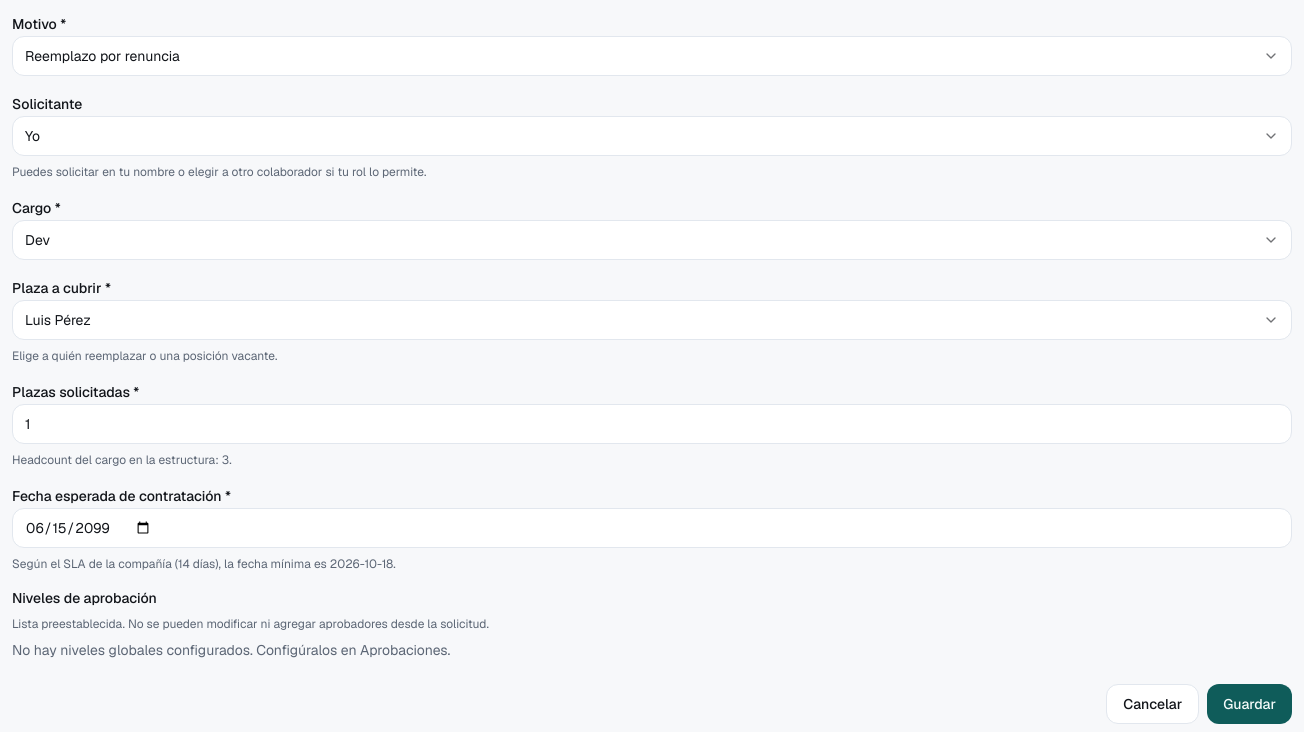
Test case: VacancyRequestForm requester field › offers Yo when the user has a linked employee
The image size is (1304, 732).
What coordinates should you click on to do the following:
click the dropdown labelled "Yo"
I would click on:
 (33, 136)
Its box is [12, 116, 1292, 156].
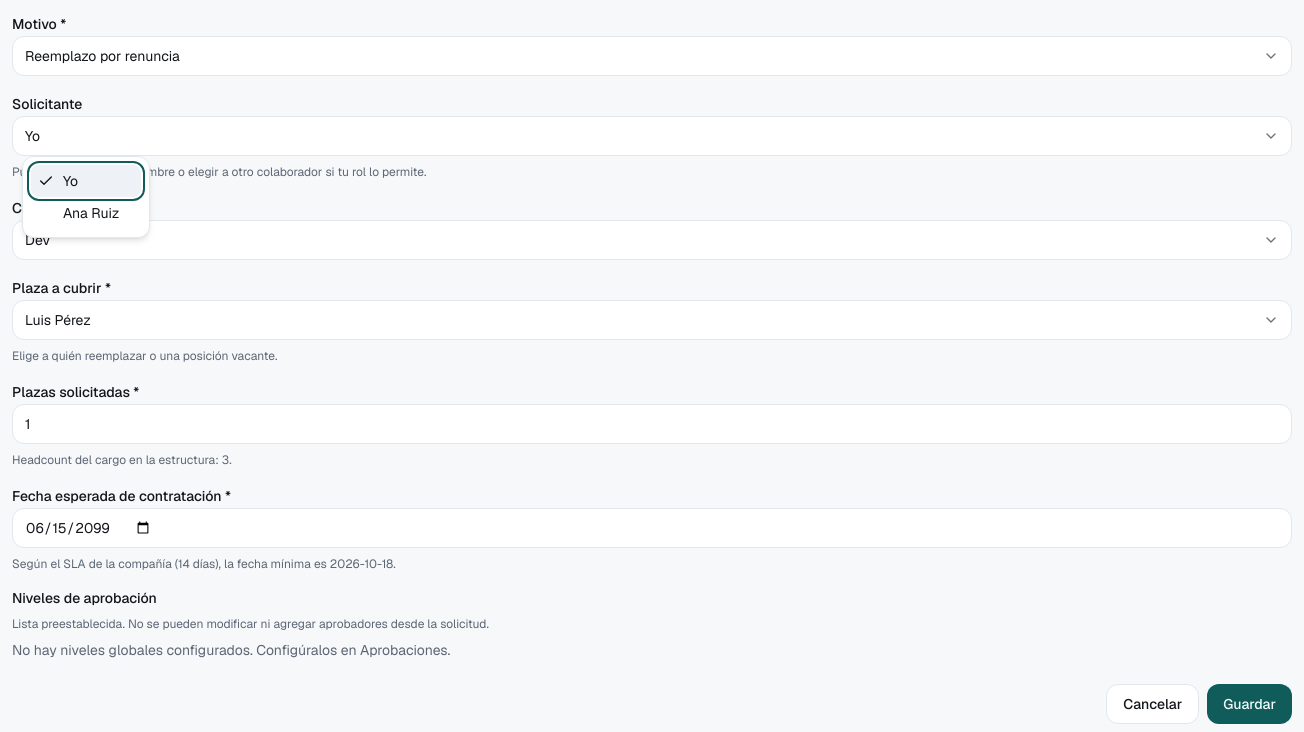
Expected: the option "Yo" is shown, [31, 165, 141, 197]
